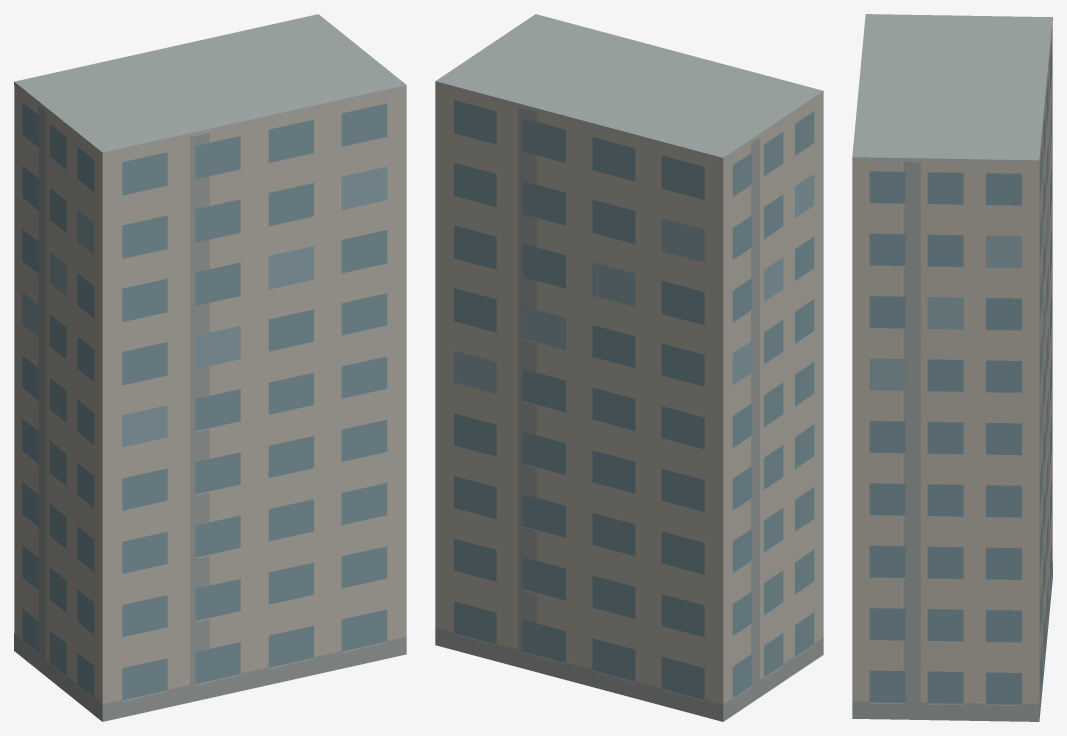
File: residential-97351992-162e-4486-9da9-94375351fc02.glb
The picture shows the model from 3 angles, left to right: view 1: azimuth 30°, elevation 25°; view 2: azimuth 150°, elevation 25°; view 3: azimuth 270°, elevation 25°; orthographic projection.
Visible parts, largest first — view 1: residential-97351992-162e-4486-9da9-94375351fc02.tmp; view 2: residential-97351992-162e-4486-9da9-94375351fc02.tmp; view 3: residential-97351992-162e-4486-9da9-94375351fc02.tmp.
Part boxes in pixels (bbox=[...]): residential-97351992-162e-4486-9da9-94375351fc02.tmp: bbox=[14, 14, 406, 721]; residential-97351992-162e-4486-9da9-94375351fc02.tmp: bbox=[435, 14, 823, 721]; residential-97351992-162e-4486-9da9-94375351fc02.tmp: bbox=[852, 14, 1052, 721].
Size of the model in its own units: 19.01 by 34 by 11.01.
